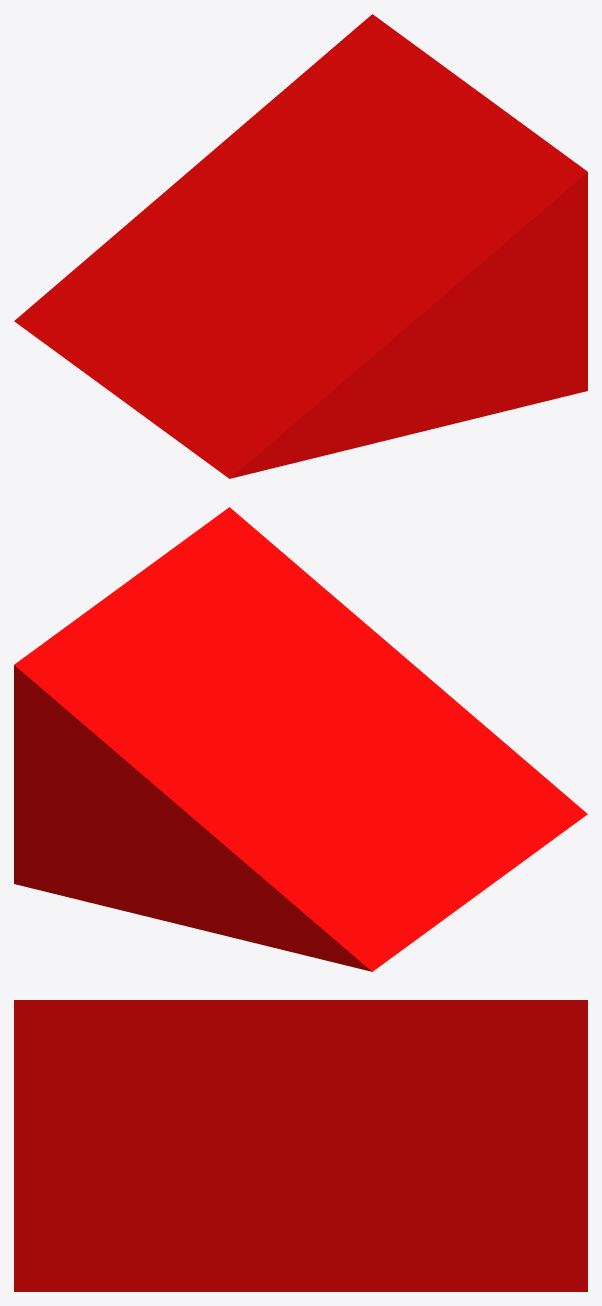
File: WedgeHigh.FBX
The picture shows the model from 3 angles, top to bottom: view 1: azimuth 30°, elevation 25°; view 2: azimuth 150°, elevation 25°; view 3: azimuth 270°, elevation 25°; orthographic projection. The views are drawn at different scales.
Visible parts, largest first — view 1: Box003; view 2: Box003; view 3: Box003.
Part boxes in pixels (<box>): Box003: <box>14,14,587,478</box>; Box003: <box>14,507,587,971</box>; Box003: <box>14,1000,587,1291</box>.
Size of the model in its own units: 940 by 551 by 979.
